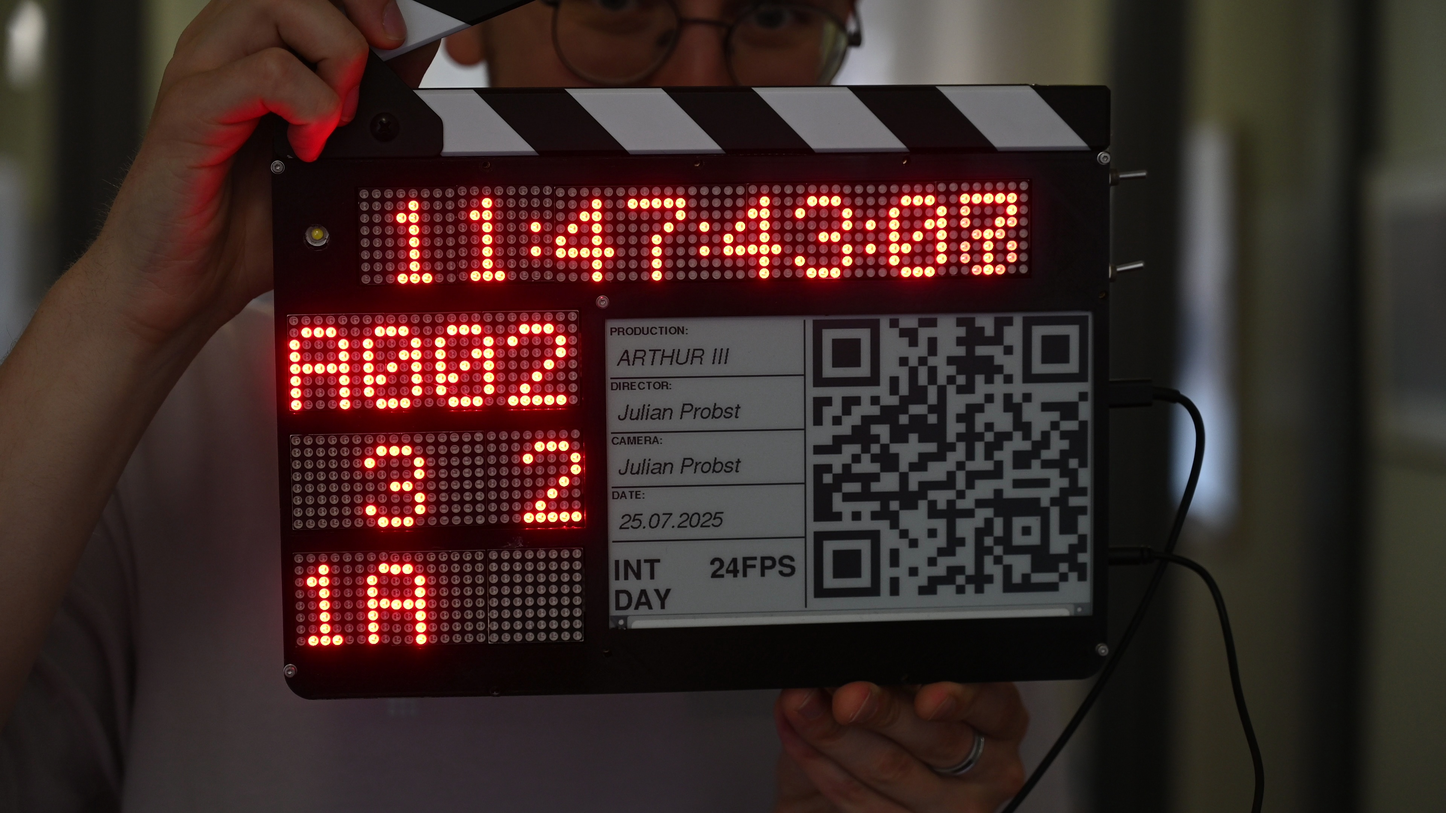ARC-SLATE: (272, 85, 1111, 705)
